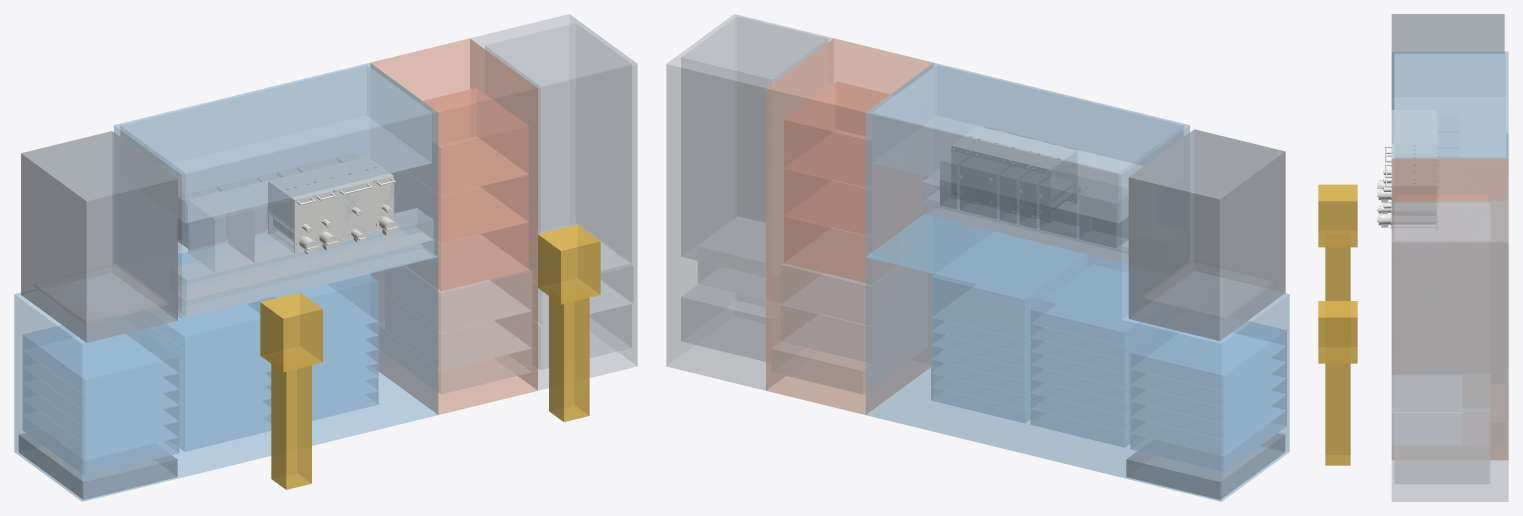
File: hat_v1.glb
3 views of the same model, side by side, from view 1: azimuth 30°, elevation 25°; view 2: azimuth 150°, elevation 25°; view 3: azimuth 270°, elevation 25° (orthographic). The views are drawn at different scales.
Parts seen in each view (by area): view 1: B_KABIN, TOPPING_KABIN, D_KABIN, E_KABIN, TOPPING_SOG, PRESS, E_SARJOR, FIRIN_3, CEK_K1_hamur_6, TOPPING_BAS, B_SOGUTMA, ROBOT_2 (+39 smaller); view 2: B_KABIN, TOPPING_KABIN, D_KABIN, E_KABIN, TOPPING_SOG, PRESS, E_SARJOR, FIRIN_3, CEK_K1_hamur_6, B_SOGUTMA, E_MEK, PRESS_PLAKA (+38 smaller); view 3: E_KABIN, E_SARJOR, TOPPING_KABIN, TOPPING_SOG, D_KABIN, PRESS, E_MEK, ROBOT_2, ROBOT_1_KOL, KASET_SUCUK, ROBOT_2_KOL, E_AGZ (+7 smaller).
Part boxes in pixels (x1,y1,x2,y2): B_KABIN: [14, 252, 438, 501]; TOPPING_KABIN: [114, 63, 438, 319]; D_KABIN: [370, 38, 537, 414]; E_KABIN: [470, 14, 637, 390]; TOPPING_SOG: [120, 65, 431, 222]; PRESS: [21, 131, 177, 342]; E_SARJOR: [485, 23, 631, 270]; FIRIN_3: [423, 88, 528, 195]; CEK_K1_hamur_6: [23, 325, 178, 395]; TOPPING_BAS: [178, 208, 433, 299]; B_SOGUTMA: [18, 429, 177, 499]; ROBOT_2: [549, 283, 589, 421]; B_KABIN: [865, 213, 1289, 501]; TOPPING_KABIN: [865, 63, 1189, 319]; D_KABIN: [766, 38, 933, 414]; E_KABIN: [666, 14, 833, 390]; TOPPING_SOG: [872, 65, 1183, 222]; PRESS: [1128, 129, 1285, 340]; E_SARJOR: [681, 16, 827, 277]; FIRIN_3: [784, 81, 889, 187]; CEK_K1_hamur_6: [1130, 321, 1286, 391]; B_SOGUTMA: [1126, 429, 1285, 499]; E_MEK: [681, 284, 765, 361]; PRESS_PLAKA: [1141, 259, 1275, 320]; E_KABIN: [1391, 200, 1508, 501]; E_SARJOR: [1394, 203, 1489, 411]; TOPPING_KABIN: [1391, 51, 1508, 200]; TOPPING_SOG: [1394, 54, 1505, 158]; D_KABIN: [1391, 158, 1508, 459]; PRESS: [1391, 14, 1504, 109]; E_MEK: [1394, 412, 1489, 483]; ROBOT_2: [1325, 363, 1350, 465]; ROBOT_1_KOL: [1318, 184, 1357, 247]; KASET_SUCUK: [1377, 177, 1438, 230]; ROBOT_2_KOL: [1318, 301, 1357, 363]; E_AGZ: [1392, 375, 1461, 444].
Bounding box in the file's own units: 3.9 × 2.03 × 1.35.
